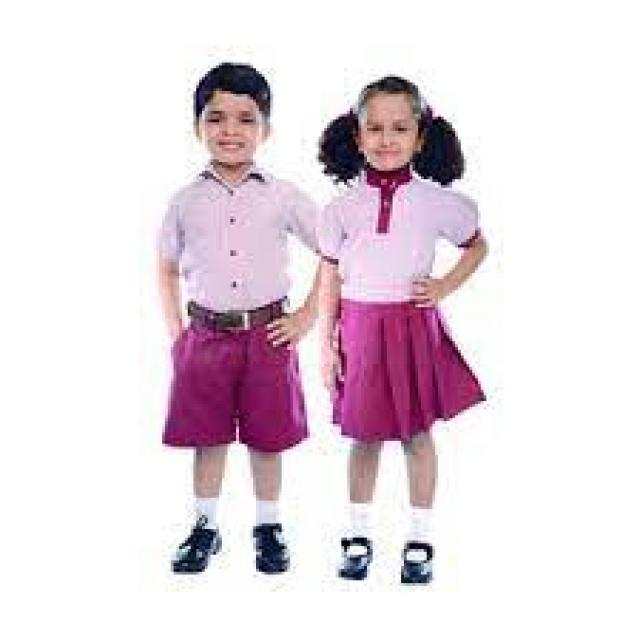child: (313, 74, 492, 594), (145, 63, 324, 583)
